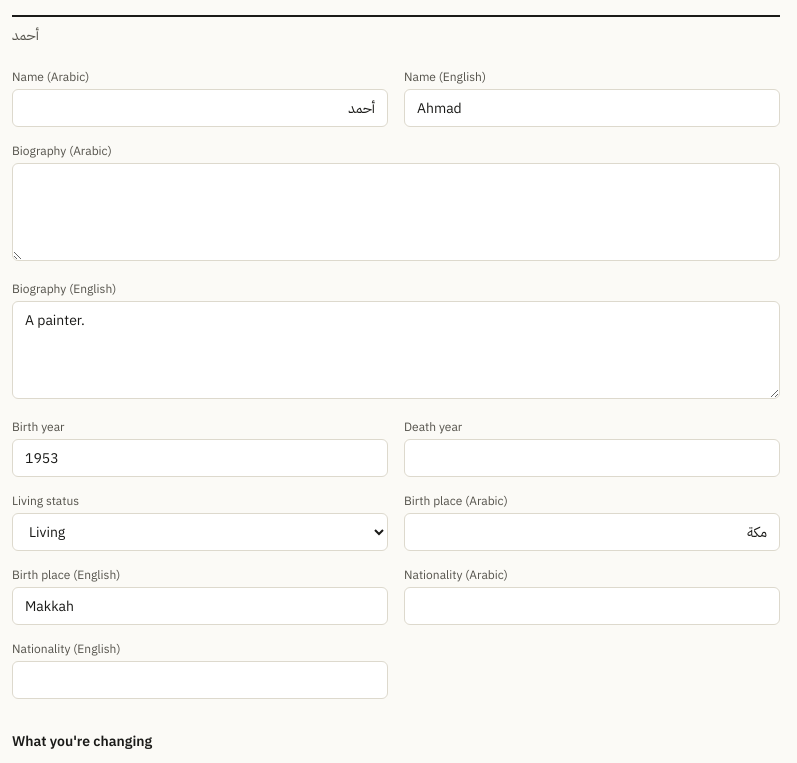
Test case: SuggestEditPage › offers Submit for review rather than a save, and cannot submit until something changed with a reason
Replace the text in the text box with test id "field-bio_en" with "A painter from Alahsa.": [396, 350] box [12,301,780,399]
(page scrolled)
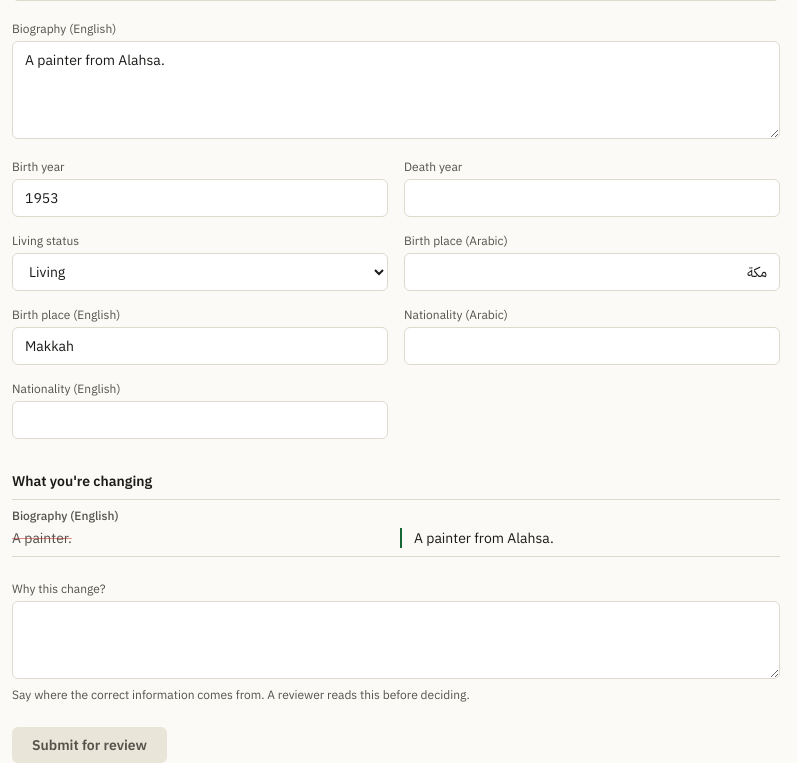
Expected: the button with test id "submit-for-review" is disabled, [12,727,167,762]
In the text box with test id "rationale-input": [396, 640] box [12,601,780,679], type "Page 12 of the catalogue."
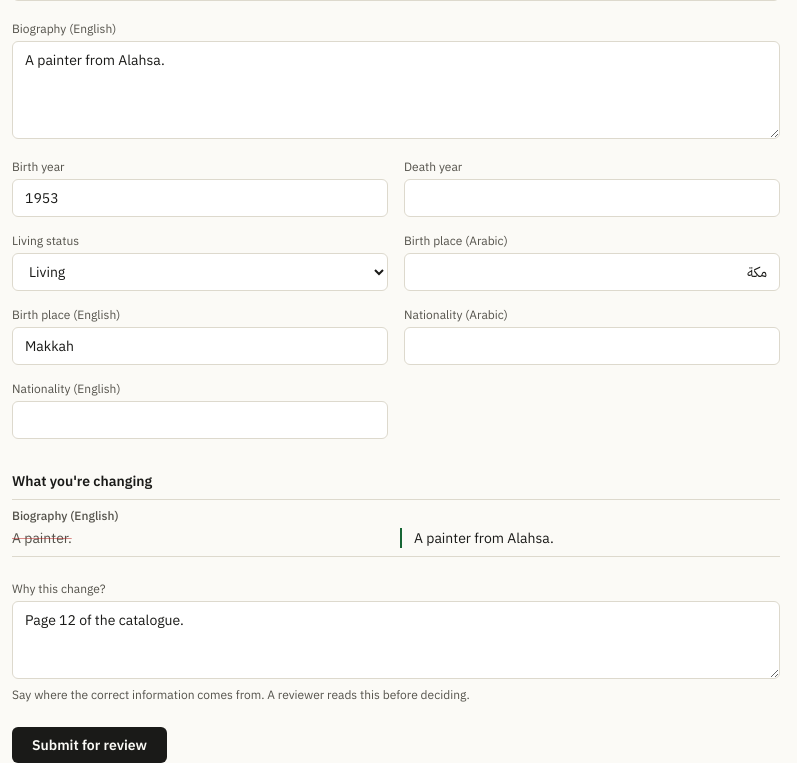
Expected: the button with test id "submit-for-review" is enabled, [12,727,167,762]
